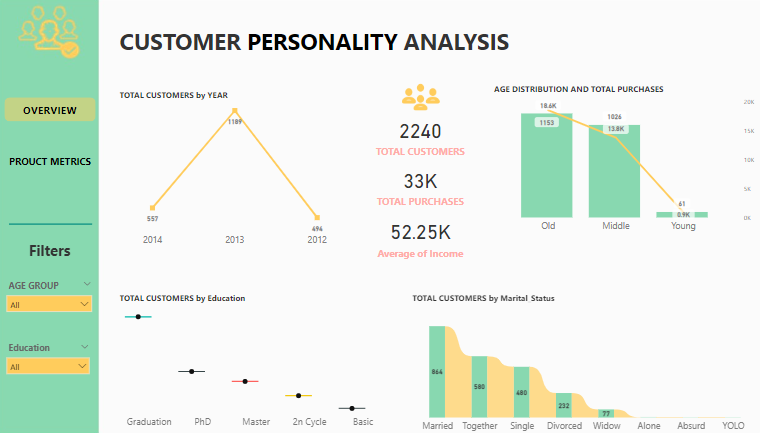

Layout of this report page (visuals, bound fields, positions):
{"tool":"powerbi","page":{"name":"Overview","canvas":[1300,720],"ordinal":0},"visuals":[{"type":"card","fields":{"Values":["marketing_campaign.TOTAL CUSTOMERS"]},"box":[628.4,165.2,177.2,82.6],"z":0},{"type":"card","fields":{"Values":["Avg(marketing_campaign.Income)"]},"box":[628.4,330.3,177.2,88.6],"z":1000},{"type":"card","fields":{"Values":["marketing_campaign.TOTAL PURCHASES"]},"box":[628.4,247.7,177.2,82.6],"z":2000},{"type":"BoxWhiskerChart1455240051538","fields":{"Groups":["marketing_campaign.Education"],"Values":["marketing_campaign.TOTAL CUSTOMERS"]},"box":[215.5,465.3,461.2,239.7],"z":3000},{"type":"ribbonChart","fields":{"Category":["marketing_campaign.Marital_Status"],"Y":["marketing_campaign.TOTAL CUSTOMERS"]},"box":[698.9,465.3,582.1,239.7],"z":4000},{"type":"lineChart","fields":{"Category":["marketing_campaign.YEAR"],"Y":["marketing_campaign.TOTAL CUSTOMERS"]},"box":[215.5,128.9,390.7,269.9],"z":5000},{"type":"lineClusteredColumnComboChart","title":"AGE DISTRIBUTION AND TOTAL PURCHASES","fields":{"Category":["marketing_campaign.Age Group"],"Y":["marketing_campaign.TOTAL CUSTOMERS"],"Y2":["marketing_campaign.TOTAL PURCHASES"]},"box":[833.8,118.8,447.1,255.8],"z":6000},{"type":"textbox","box":[215.5,20.1,745.2,72.5],"z":7000},{"type":"image","box":[650.5,100.7,132.9,82.6],"z":8000},{"type":"actionButton","title":"Overview","box":[30.2,143,151.1,40.3],"z":9000},{"type":"actionButton","title":"Product Metrics","box":[30.2,227.6,151.1,40.3],"z":10000},{"type":"slicer","fields":{"Values":["marketing_campaign.Age Group"]},"box":[24.2,439.1,161.1,64.5],"z":11000},{"type":"slicer","fields":{"Values":["marketing_campaign.Education"]},"box":[24.2,541.8,157.1,60.4],"z":12000},{"type":"textbox","box":[24.2,374.6,161.1,44.3],"z":13000},{"type":"shape","box":[38.3,330.3,137,44.3],"z":14000}]}

Visuals, with their boxes on the page's 1300x720 design canvas (x1, y1, x2, y2). These are canvas units, not pixel positions in the 760x433 screenshot, which may show the page scaled, cropped or inside an application window:
card - marketing_campaign.TOTAL CUSTOMERS: {"x1": 628, "y1": 165, "x2": 806, "y2": 248}
card - Avg(marketing_campaign.Income): {"x1": 628, "y1": 330, "x2": 806, "y2": 419}
card - marketing_campaign.TOTAL PURCHASES: {"x1": 628, "y1": 248, "x2": 806, "y2": 330}
BoxWhiskerChart1455240051538 - marketing_campaign.Education x marketing_campaign.TOTAL CUSTOMERS: {"x1": 216, "y1": 465, "x2": 677, "y2": 705}
ribbonChart - marketing_campaign.Marital_Status x marketing_campaign.TOTAL CUSTOMERS: {"x1": 699, "y1": 465, "x2": 1281, "y2": 705}
lineChart - marketing_campaign.YEAR x marketing_campaign.TOTAL CUSTOMERS: {"x1": 216, "y1": 129, "x2": 606, "y2": 399}
"AGE DISTRIBUTION AND TOTAL PURCHASES" lineClusteredColumnComboChart: {"x1": 834, "y1": 119, "x2": 1281, "y2": 375}
textbox: {"x1": 216, "y1": 20, "x2": 961, "y2": 93}
image: {"x1": 650, "y1": 101, "x2": 783, "y2": 183}
"Overview" actionButton: {"x1": 30, "y1": 143, "x2": 181, "y2": 183}
"Product Metrics" actionButton: {"x1": 30, "y1": 228, "x2": 181, "y2": 268}
slicer - marketing_campaign.Age Group: {"x1": 24, "y1": 439, "x2": 185, "y2": 504}
slicer - marketing_campaign.Education: {"x1": 24, "y1": 542, "x2": 181, "y2": 602}
textbox: {"x1": 24, "y1": 375, "x2": 185, "y2": 419}
shape: {"x1": 38, "y1": 330, "x2": 175, "y2": 375}
